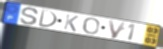1: (126, 23, 137, 42)
D: (37, 8, 58, 29)
K: (62, 13, 80, 33)
O: (82, 17, 101, 35)
S: (19, 6, 40, 26)
V: (107, 19, 128, 40)
